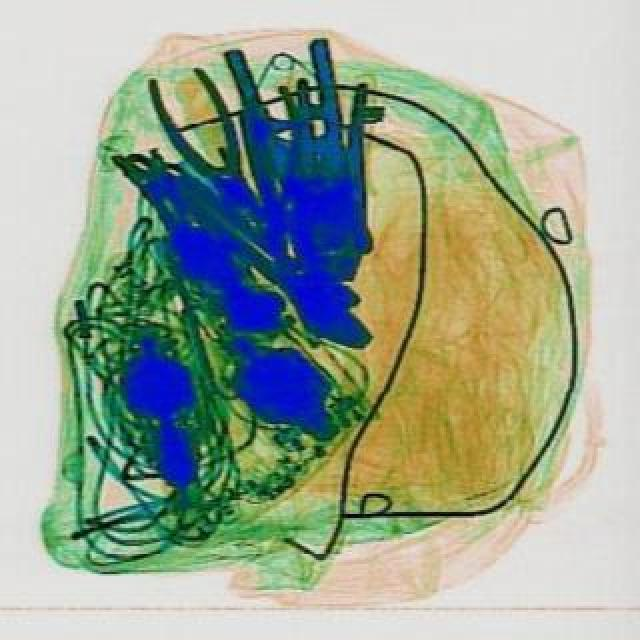wrench: (226, 32, 378, 260), (144, 60, 294, 246), (286, 80, 386, 284)
